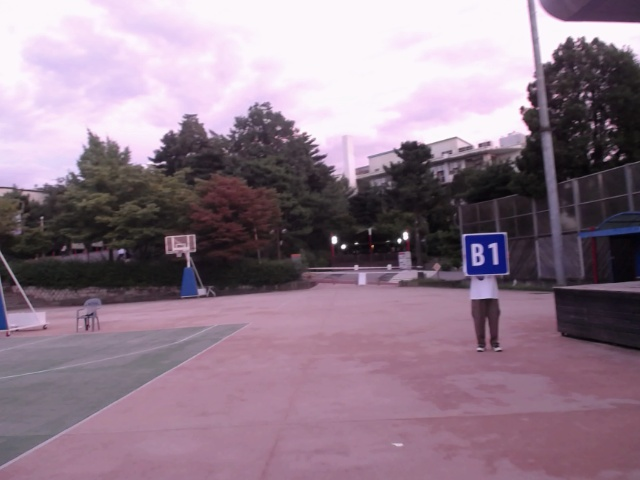delivery_b1: (463, 235, 508, 276)
